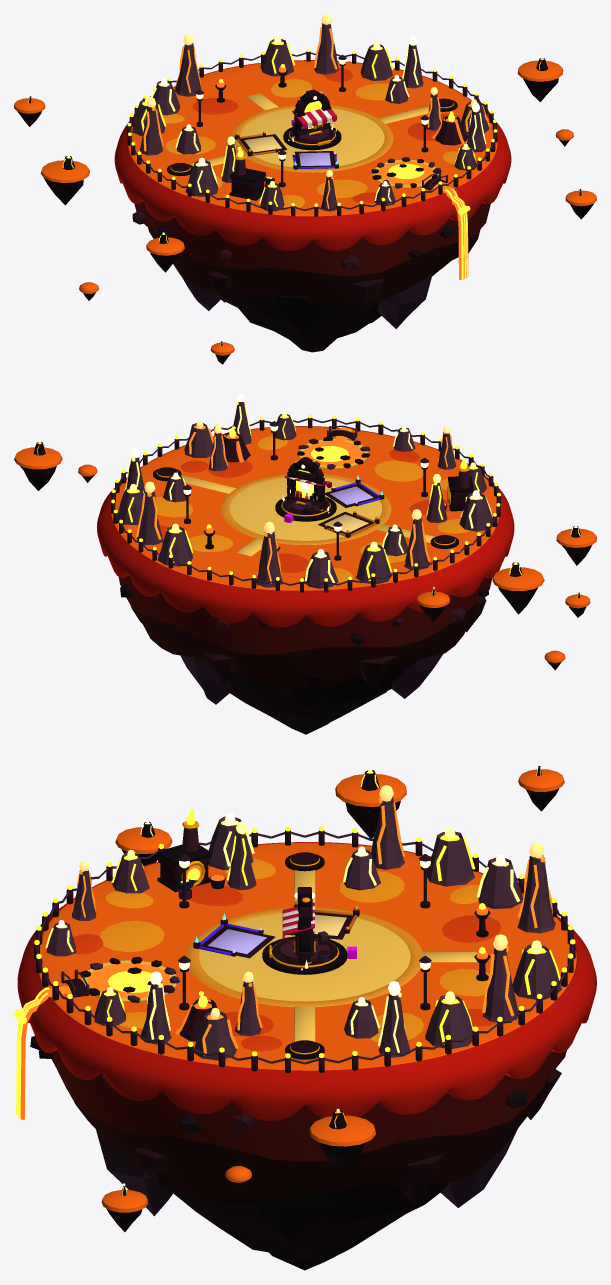
The model's file is the_sun_island.fbx.
3 views of the same model, one above another, from view 1: azimuth 30°, elevation 25°; view 2: azimuth 150°, elevation 25°; view 3: azimuth 270°, elevation 25° (orthographic). The views are drawn at different scales.
Visible parts, largest first — view 1: TheSun_Island, TheSun_Trees, TheSun_Paths, TheSun_Glow, TheSun_Dressing, TheSun_FloatingRocks, TheSun_BossPlinth, TheSun_Stall, TheSun_Portal; view 2: TheSun_Island, TheSun_Trees, TheSun_Paths, TheSun_Dressing, TheSun_Glow, TheSun_FloatingRocks, TheSun_Stall, TheSun_Portal, TheSun_BossPlinth; view 3: TheSun_Island, TheSun_Trees, TheSun_Paths, TheSun_Glow, TheSun_Dressing, TheSun_FloatingRocks, TheSun_BossPlinth, TheSun_Stall, TheSun_Portal.
Part boxes in pixels (x1,y1,x2,y2): TheSun_Island: (114,60,511,352); TheSun_Trees: (132,23,488,211); TheSun_Paths: (167,93,457,176); TheSun_Glow: (28,14,582,345); TheSun_Dressing: (127,51,497,216); TheSun_FloatingRocks: (14,58,596,364); TheSun_BossPlinth: (283,126,341,150); TheSun_Stall: (291,109,336,139); TheSun_Portal: (288,89,336,141); TheSun_Island: (97,426,514,734); TheSun_Trees: (118,402,492,588); TheSun_Paths: (153,467,458,556); TheSun_Dressing: (111,417,500,592); TheSun_Glow: (36,393,580,597); TheSun_FloatingRocks: (14,442,596,670); TheSun_Stall: (284,469,331,514); TheSun_Portal: (282,458,329,513); TheSun_BossPlinth: (275,496,336,521); TheSun_Island: (17,842,596,1270); TheSun_Trees: (46,797,561,1060); TheSun_Paths: (186,852,477,1059); TheSun_Glow: (14,763,575,1195); TheSun_Dressing: (34,821,575,1072); TheSun_FloatingRocks: (101,766,564,1231); TheSun_BossPlinth: (262,936,347,974); TheSun_Stall: (282,898,330,961); TheSun_Portal: (294,887,315,970).
Bounding box in the file's own units: 181 × 92.4 × 123.
